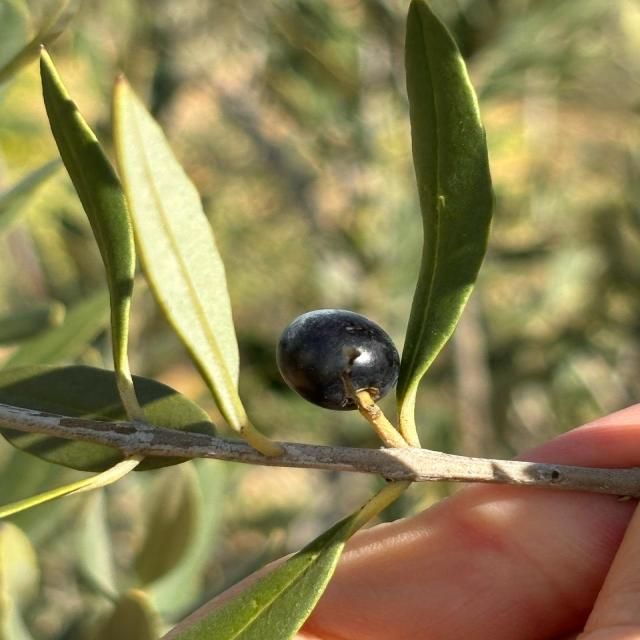Healthy: (397, 0, 493, 420), (171, 483, 407, 640), (277, 309, 399, 410)
